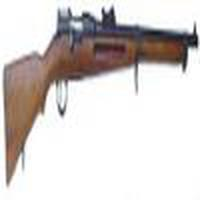gun: (1, 4, 199, 186)
